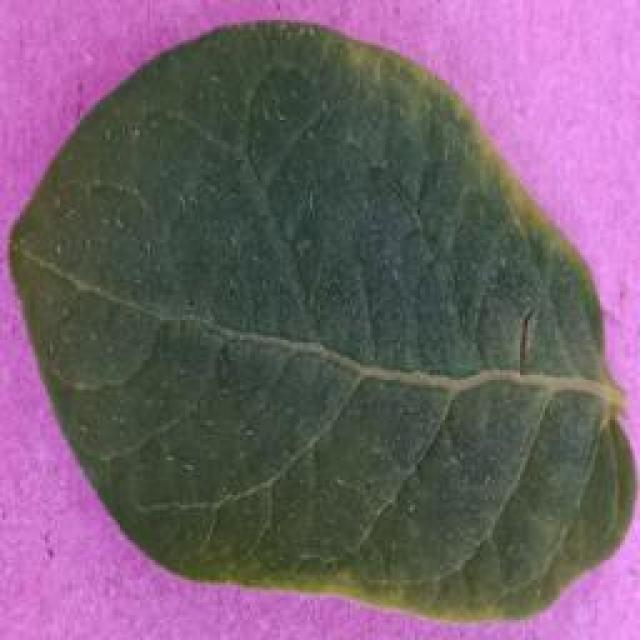Potato_Healthy: (9, 18, 623, 618)
